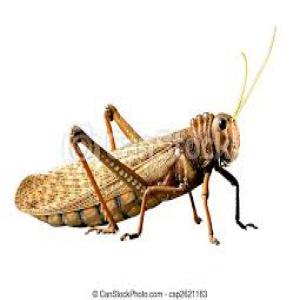locust: (9, 85, 253, 238)
